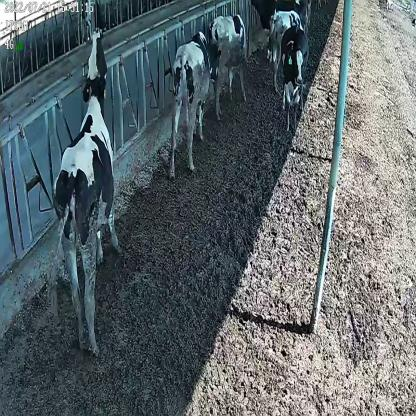cow: (48, 28, 121, 361), (168, 28, 220, 177), (211, 14, 250, 105), (279, 27, 310, 130), (268, 11, 303, 86)
